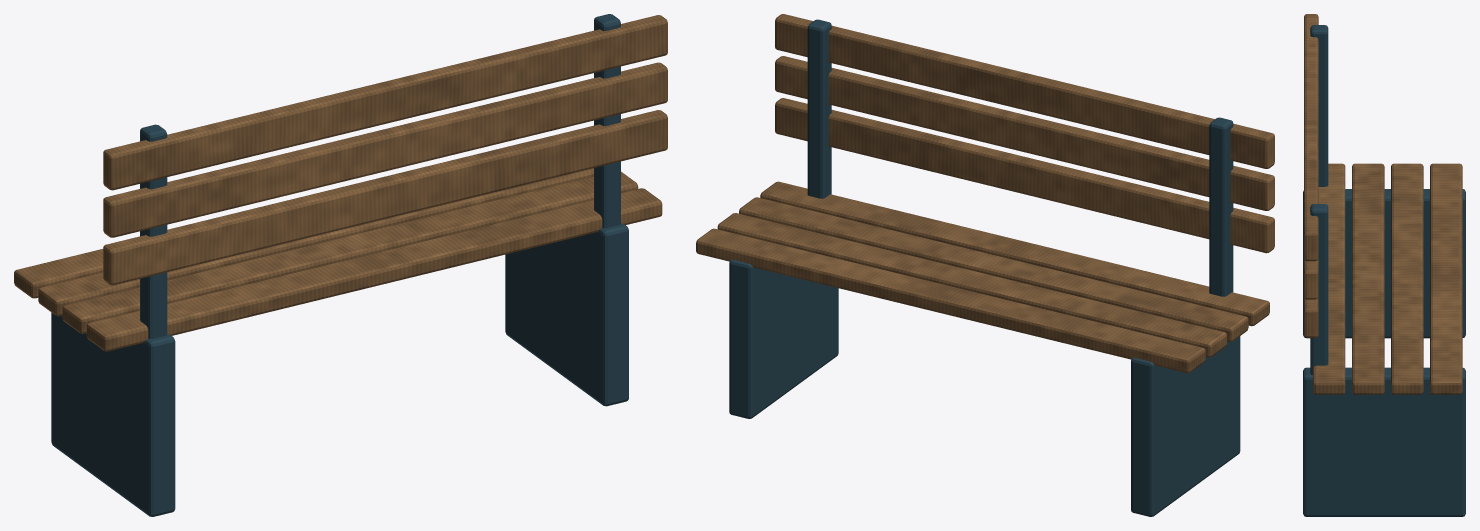
The model's file is street_bench.glb.
3 renders of one model, left to right at view 1: azimuth 30°, elevation 25°; view 2: azimuth 150°, elevation 25°; view 3: azimuth 270°, elevation 25°, orthographic. The views are drawn at different scales.
Parts seen in each view (by area): view 1: Weathered oak PBR, Navy powder coating; view 2: Weathered oak PBR, Navy powder coating; view 3: Weathered oak PBR, Navy powder coating.
Part boxes in pixels (box(x1,y1,x2,y2)): Weathered oak PBR: box(14, 15, 667, 351); Navy powder coating: box(51, 14, 628, 516); Weathered oak PBR: box(696, 14, 1274, 373); Navy powder coating: box(729, 19, 1240, 516); Weathered oak PBR: box(1304, 14, 1462, 394); Navy powder coating: box(1303, 25, 1465, 516).
Size of the model in its own units: 1.6 by 1.04 by 0.5.
Materials: 2 (1 with a texture image).
